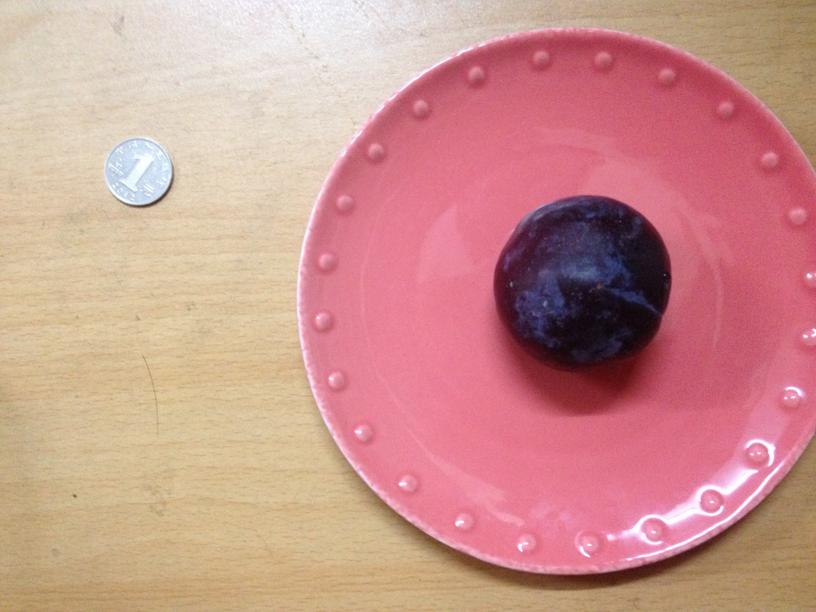coin: (99, 137, 173, 205)
plum: (490, 194, 672, 368)
